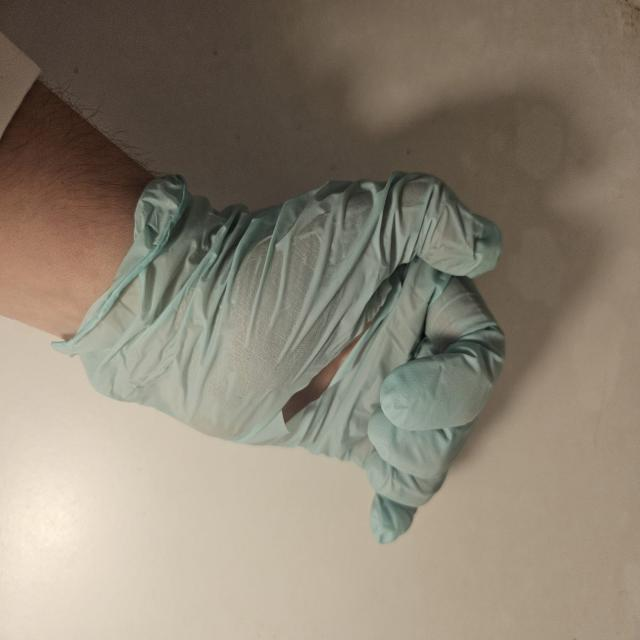gloves_damaged: (52, 166, 508, 543)
